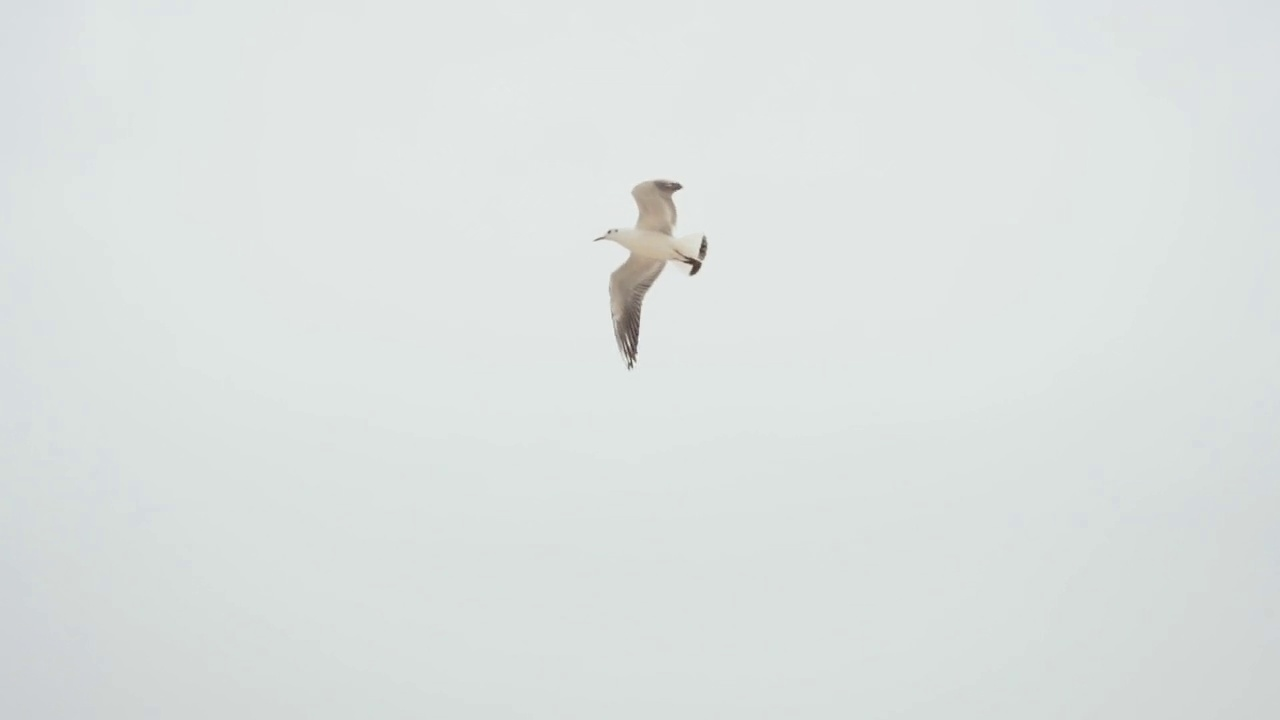bird: (595, 177, 710, 371)
